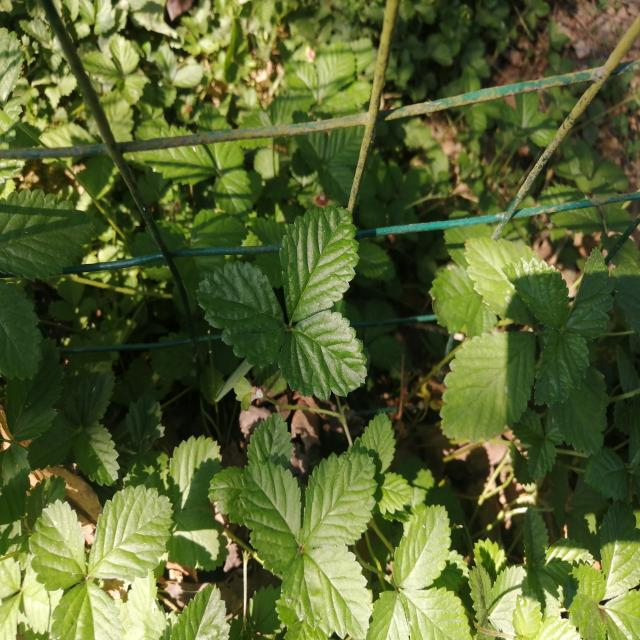Mock_strawberry: (436, 229, 612, 461), (211, 210, 382, 402), (231, 462, 395, 628)
